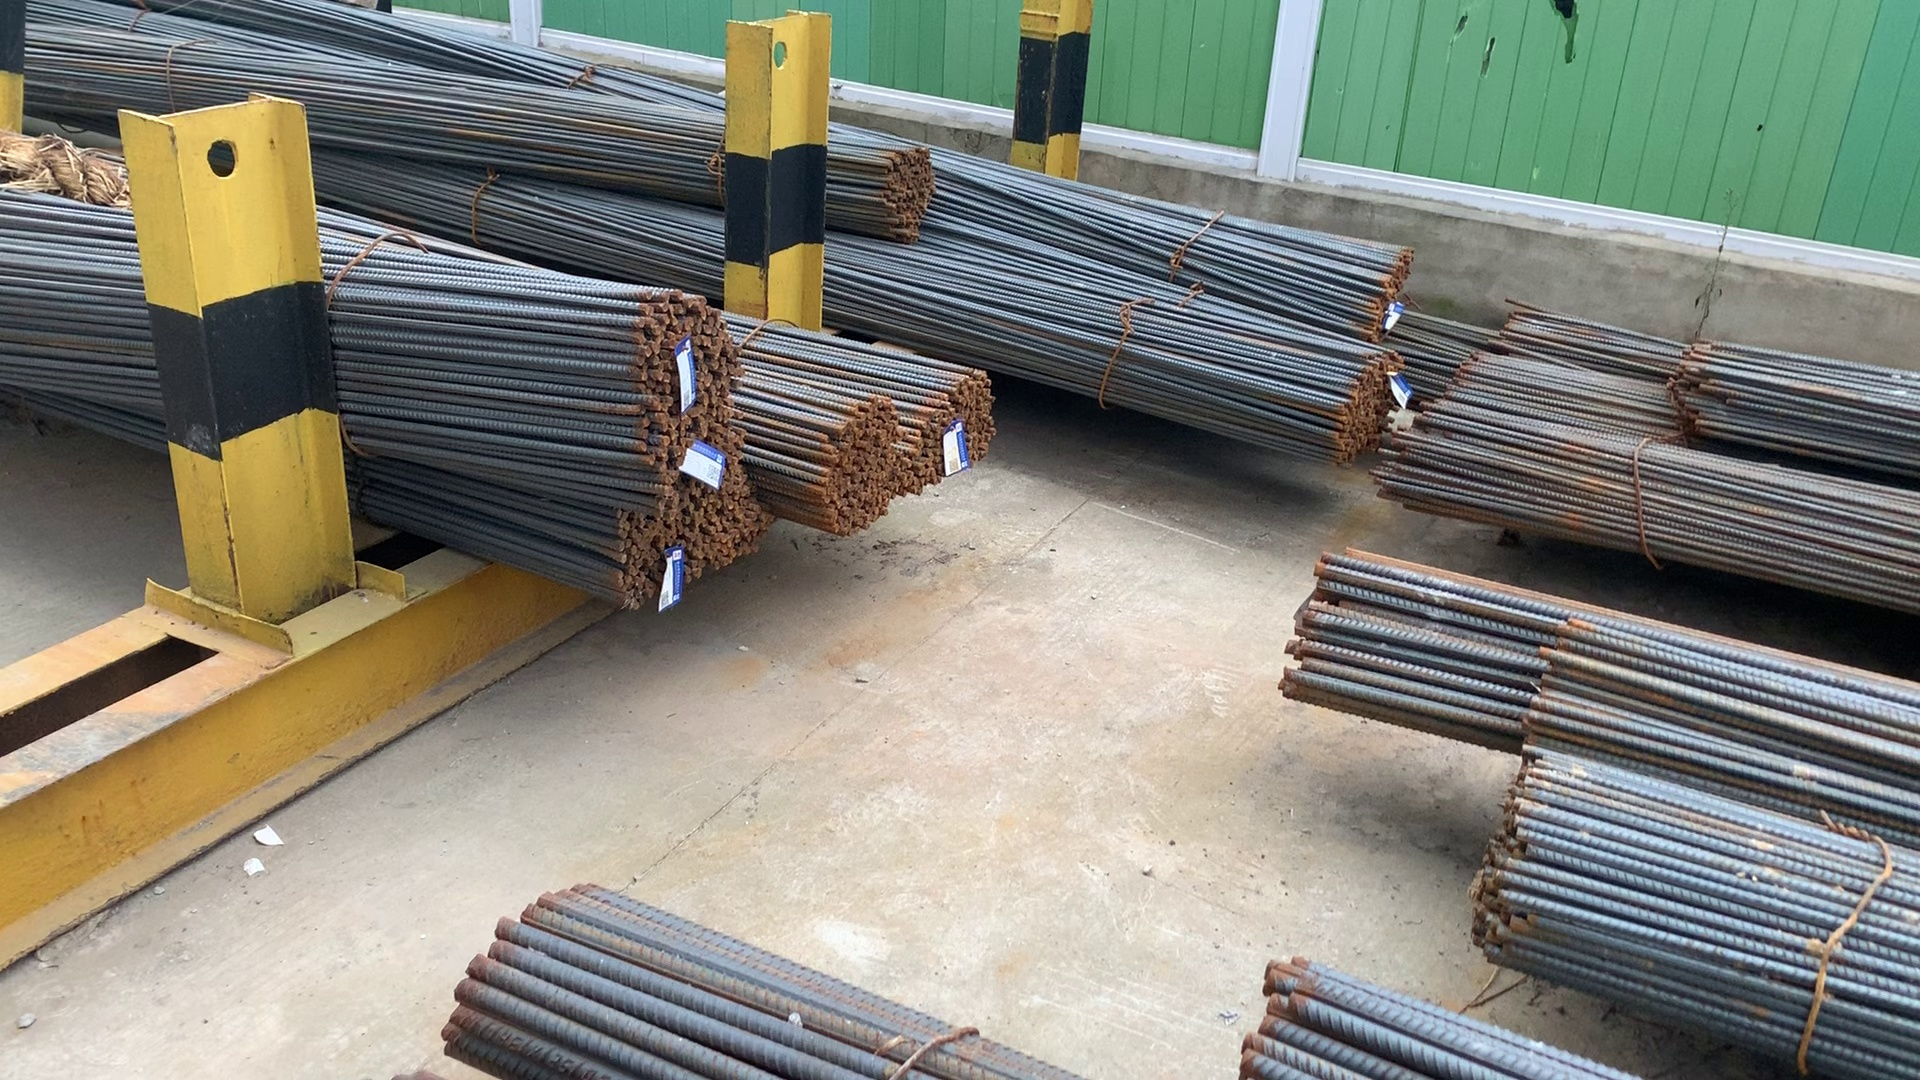rebar: (597, 468, 779, 589), (615, 299, 745, 446), (811, 393, 897, 538), (899, 372, 996, 477), (1324, 349, 1403, 472), (1361, 233, 1412, 345), (876, 142, 935, 233)
